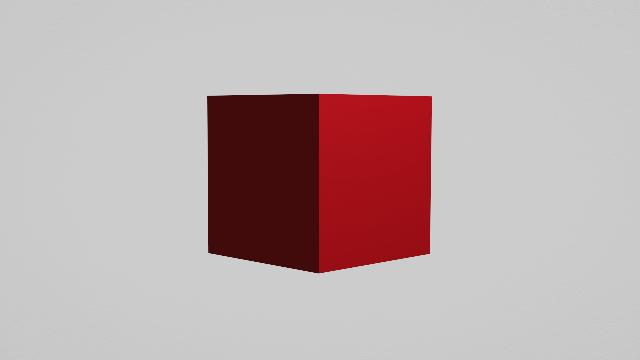Cube: (198, 87, 442, 278)
